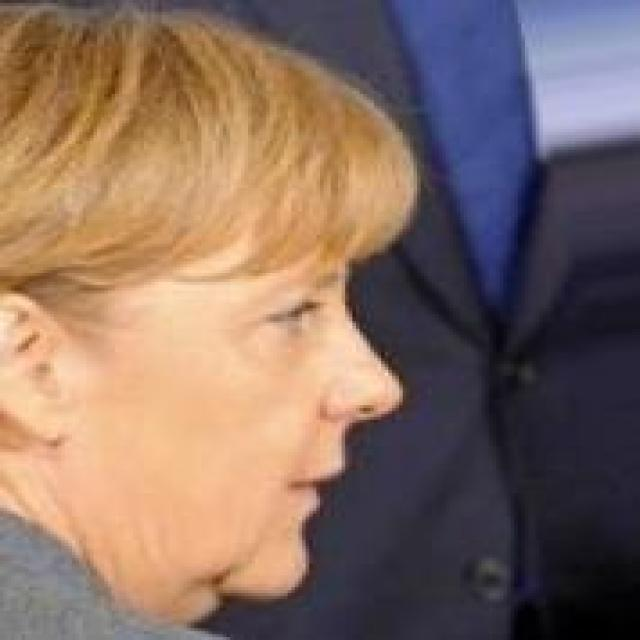nomask: (90, 129, 471, 614)
